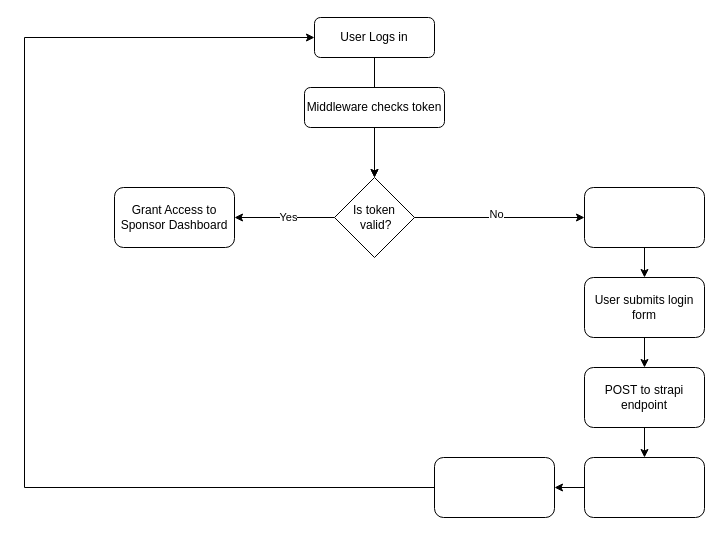
Some shapes in this 722 by 535 pixel diagram are drawn without their labels. The centre of each missing label's shape, as x and y in pixels:
Frontend stores t oken: the point at 494,487
Redirect to Login: the point at 644,217
Strapi returns JWT token if valid: the point at 644,487
